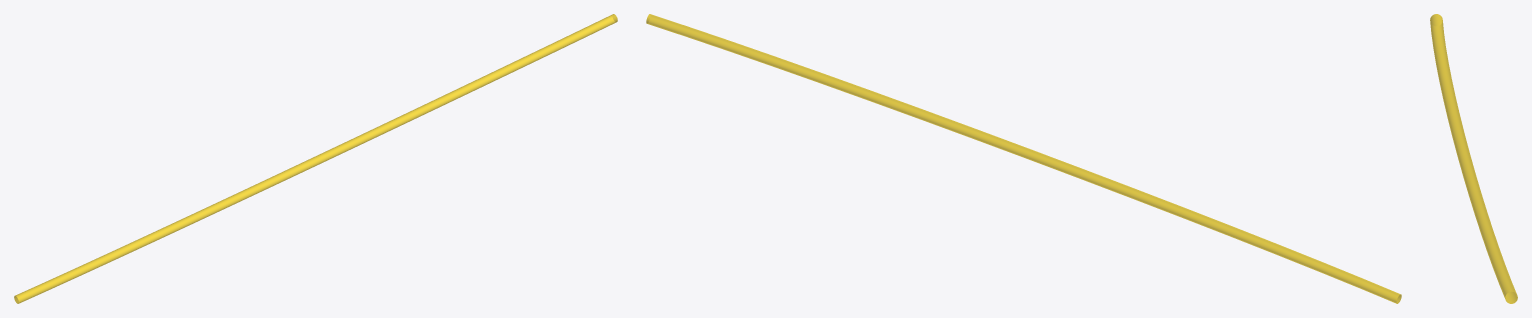
The model's file is Event_100608114_track_104.fbx.
3 renders of one model, left to right at view 1: azimuth 30°, elevation 25°; view 2: azimuth 150°, elevation 25°; view 3: azimuth 270°, elevation 25°, orthographic. The views are drawn at different scales.
Parts seen in each view (by area): view 1: Model; view 2: Model; view 3: Model.
Boxes of the visible parts, <box> form: Model: <box>14,14,617,303</box>; Model: <box>646,14,1401,303</box>; Model: <box>1430,14,1517,303</box>.
Bounding box in the file's own units: 3.23 × 0.5814 × 0.2753.
